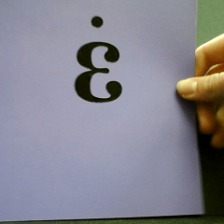violet3: (69, 13, 132, 115)
